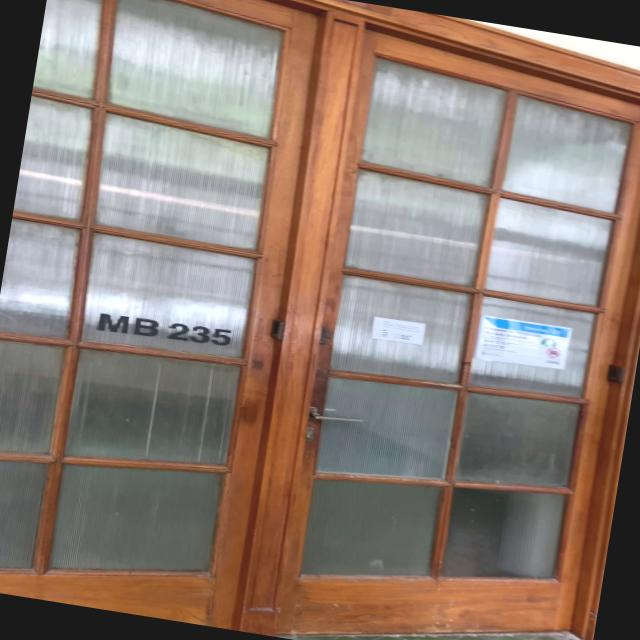room235Window: (90, 304, 237, 352)
